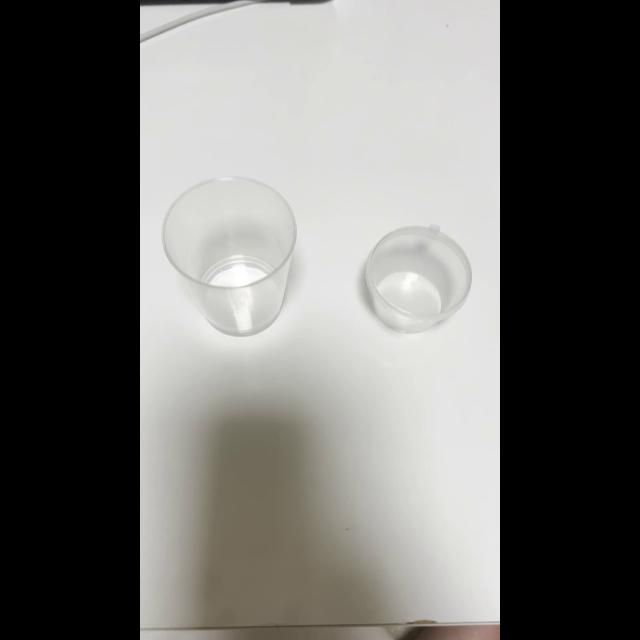clean: (162, 176, 298, 334), (364, 224, 472, 332)
